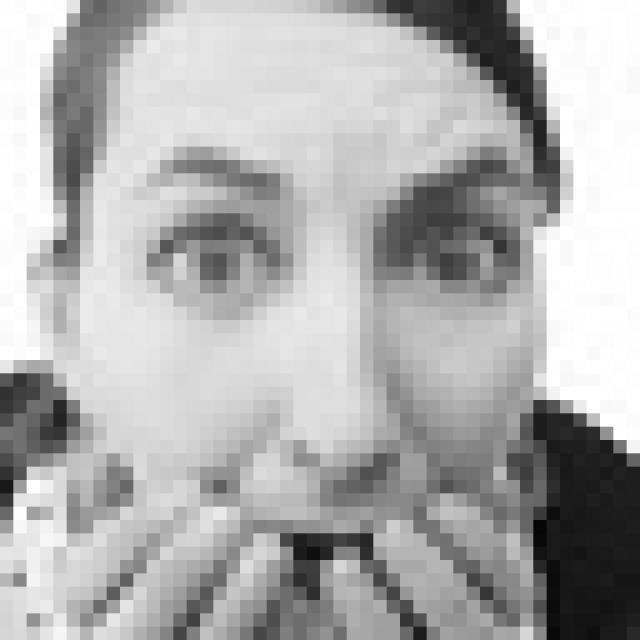fear: (135, 138, 528, 593)
